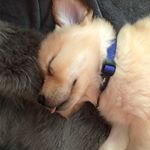puppy: (32, 1, 138, 121)
